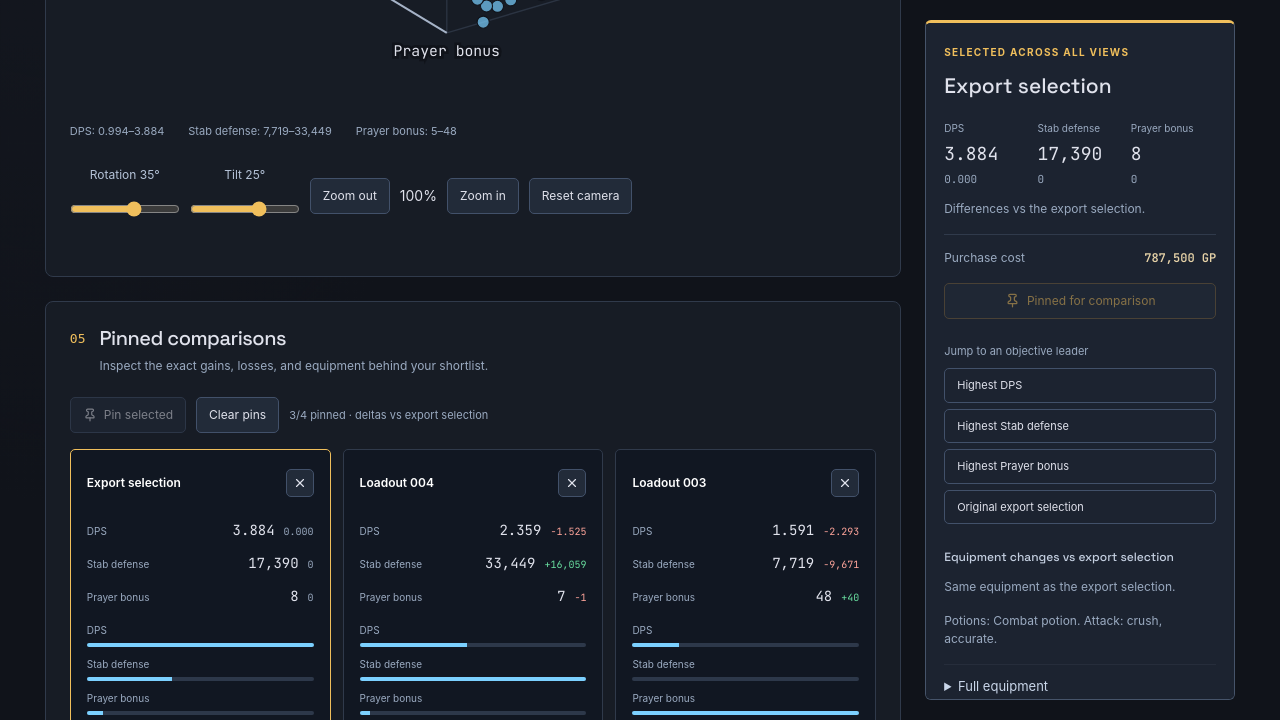
Test: temporary tradeoff lab › pins the selected loadout and supports removing pins without changing selection
Later steps or results of the test are not shown.
(page scrolled)
Click the button "Clear pins" at (238, 415), box 196,397 -> 279,433
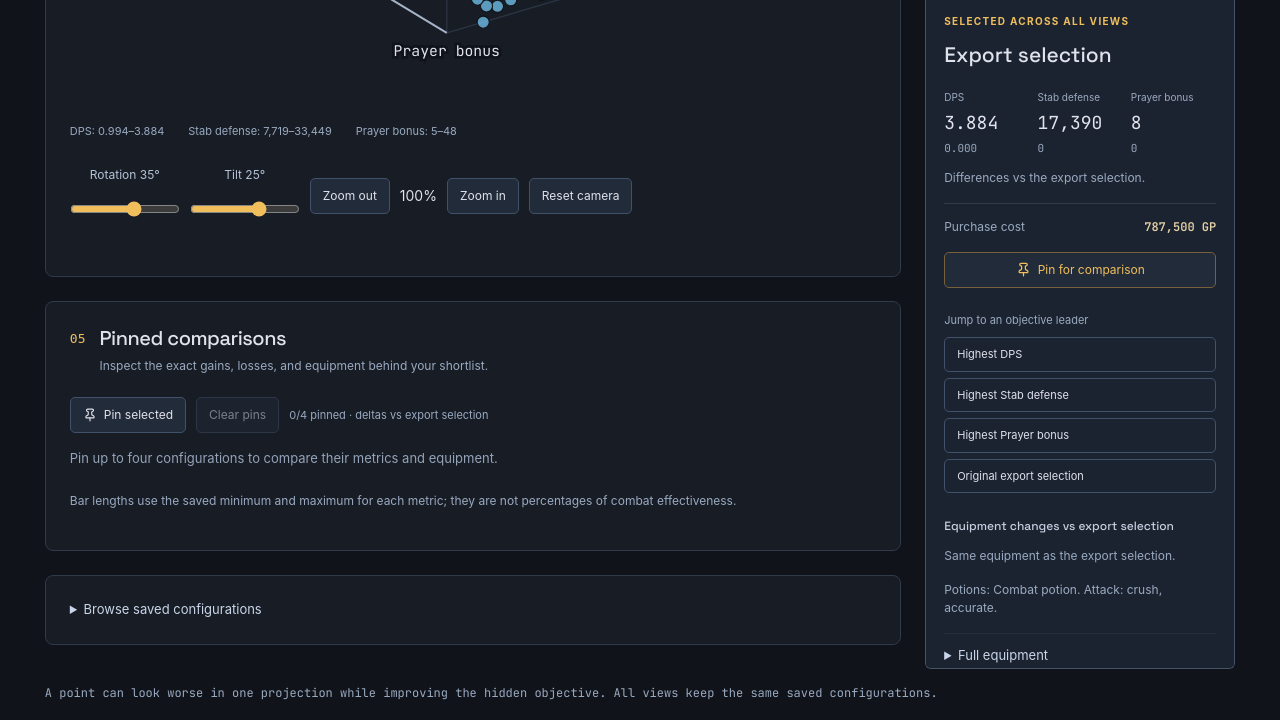
expect the text "Pin up to four configurations to compare their metrics and equipment." is shown: met, box 70,450 -> 498,466
